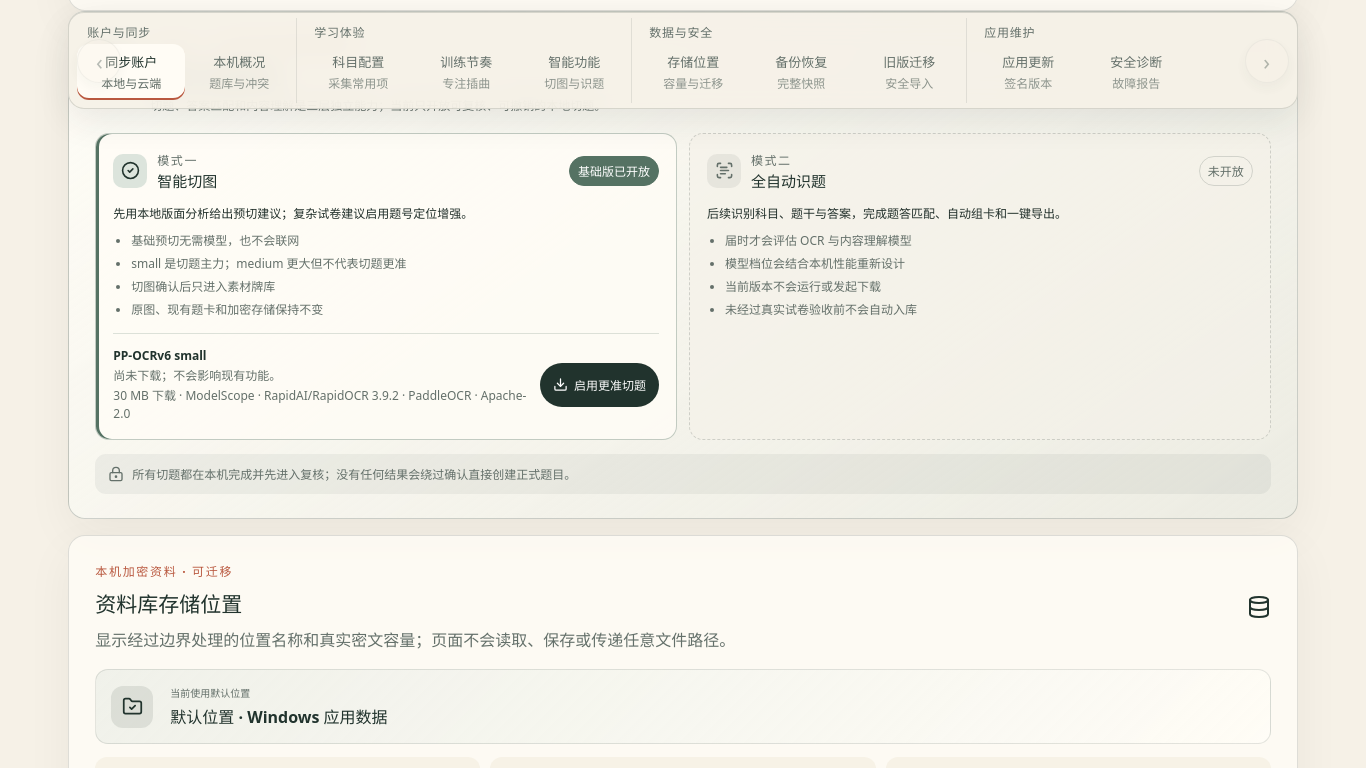
Test: SettingsView › keeps the confirmed installed state when the full capability refresh fails
(page scrolled)
Click the button "启用更准切题" at (600, 385), box [540,363,659,407]
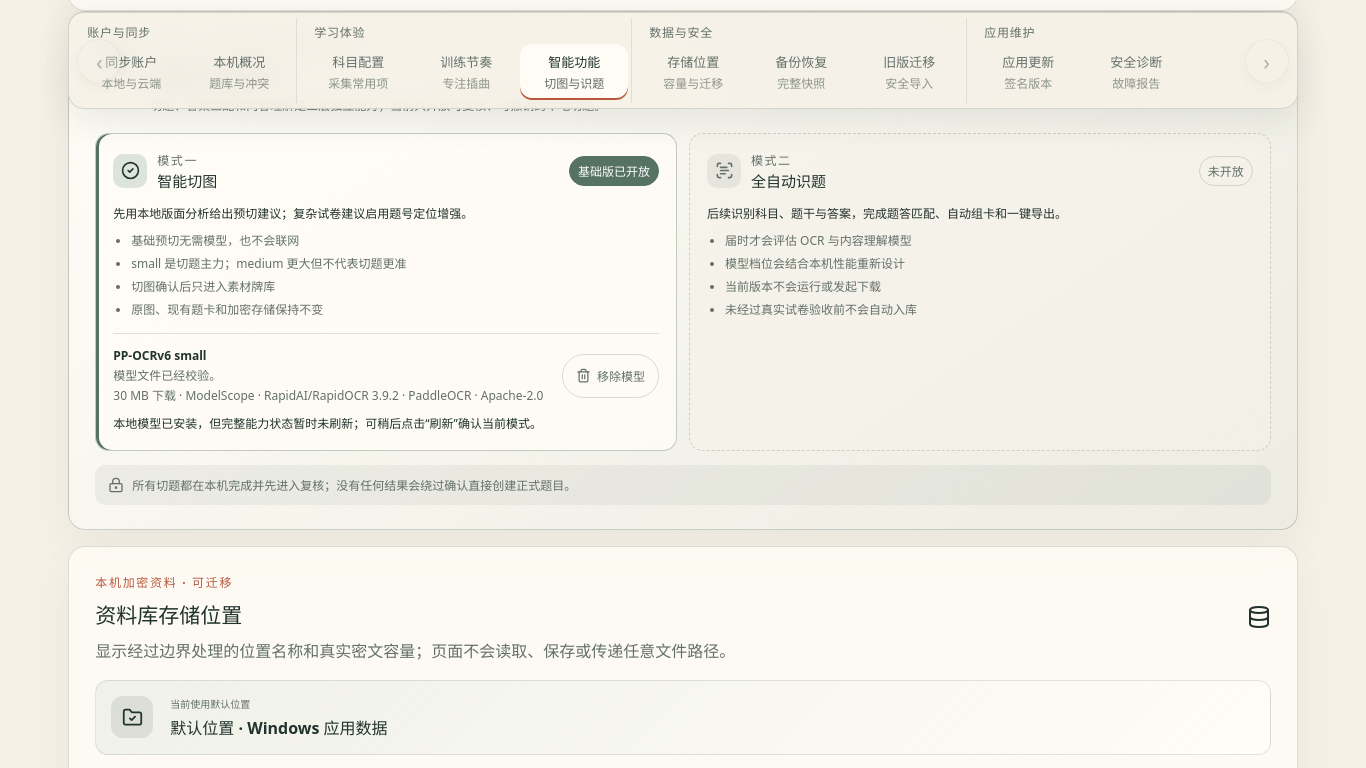
Check: the element "智能功能模式" shows "基础版已开放", box [578,163,650,180]
Check: the button "移除模型" is enabled, box [562,354,659,398]
Check: the message shows "本地模型已安装，但完整能力状态暂时未刷新", box [113,415,542,432]
